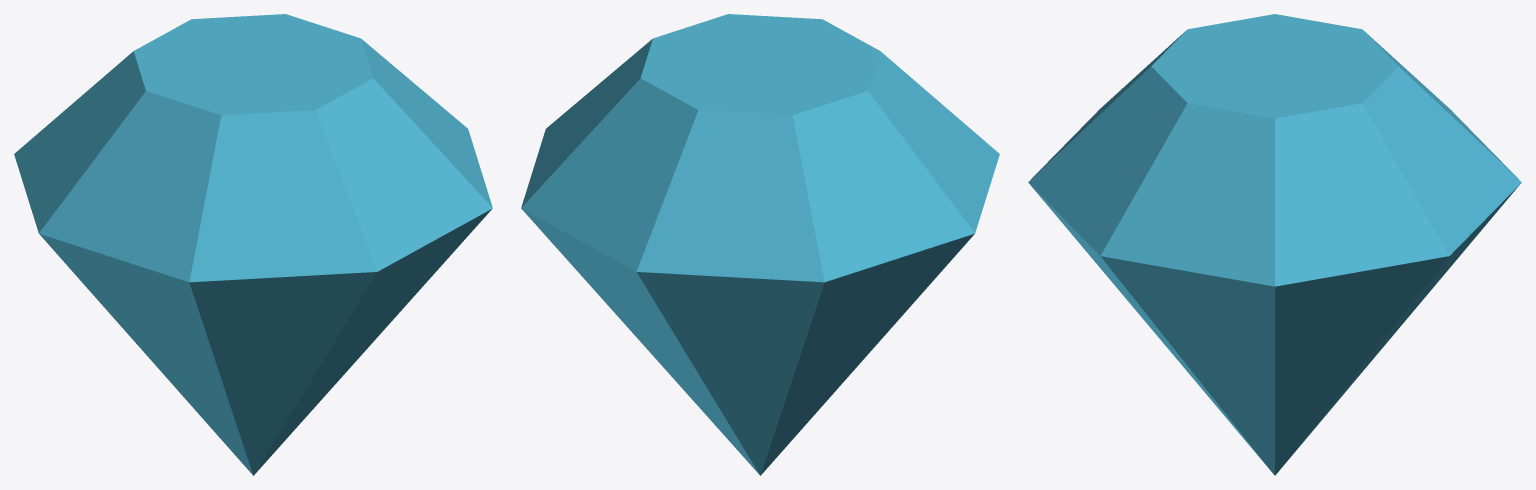
File: Diamond.fbx
The picture shows the model from 3 angles, left to right: view 1: azimuth 30°, elevation 25°; view 2: azimuth 150°, elevation 25°; view 3: azimuth 270°, elevation 25°; orthographic projection.
Visible parts, largest first — view 1: Cone; view 2: Cone; view 3: Cone.
Boxes of the visible parts, x1,y1,x2,y2 form: Cone: [14, 14, 492, 475]; Cone: [521, 14, 999, 475]; Cone: [1028, 14, 1521, 475].
Size of the model in its own units: 1.86 by 1.86 by 1.7.
